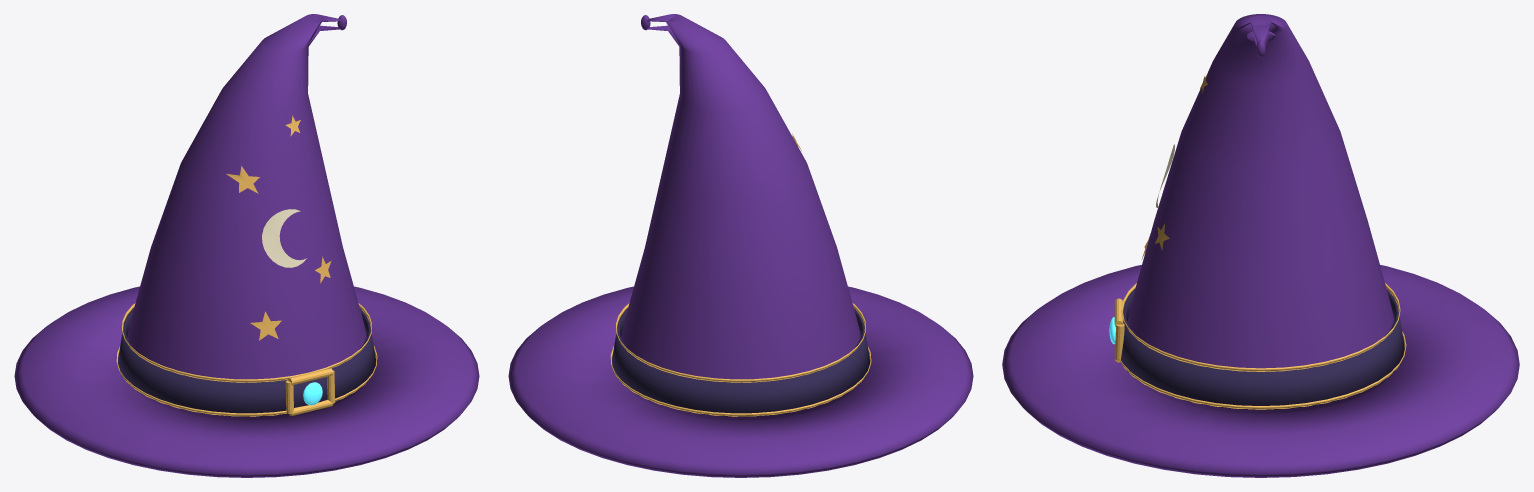
File: WizardHat.glb
3 renders of one model, left to right at view 1: azimuth 30°, elevation 25°; view 2: azimuth 150°, elevation 25°; view 3: azimuth 270°, elevation 25°, orthographic. The views are drawn at different scales.
Parts seen in each view (by area): view 1: DF_WizardHat; view 2: DF_WizardHat; view 3: DF_WizardHat.
Boxes of the visible parts, left/top/right/bottom form: DF_WizardHat: left=14, top=14, right=479, bottom=477; DF_WizardHat: left=508, top=14, right=973, bottom=477; DF_WizardHat: left=1002, top=14, right=1519, bottom=477.
Bounding box in the file's own units: 3.72 × 3.08 × 3.72.
